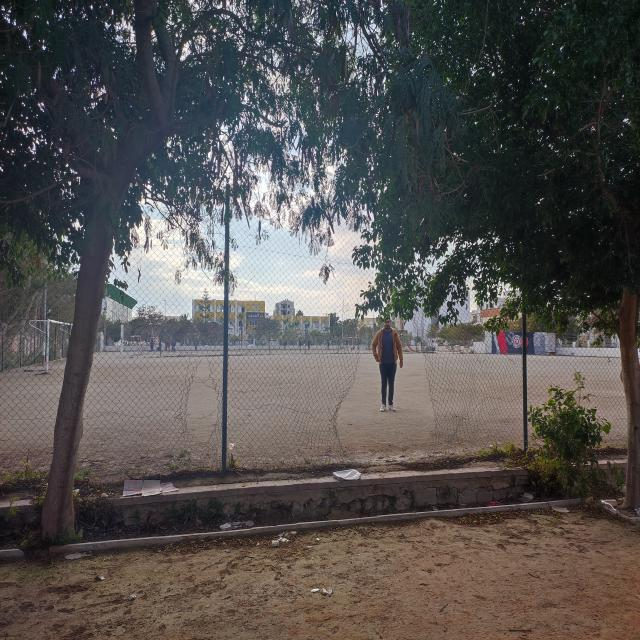fence line: (346, 279, 441, 461)
